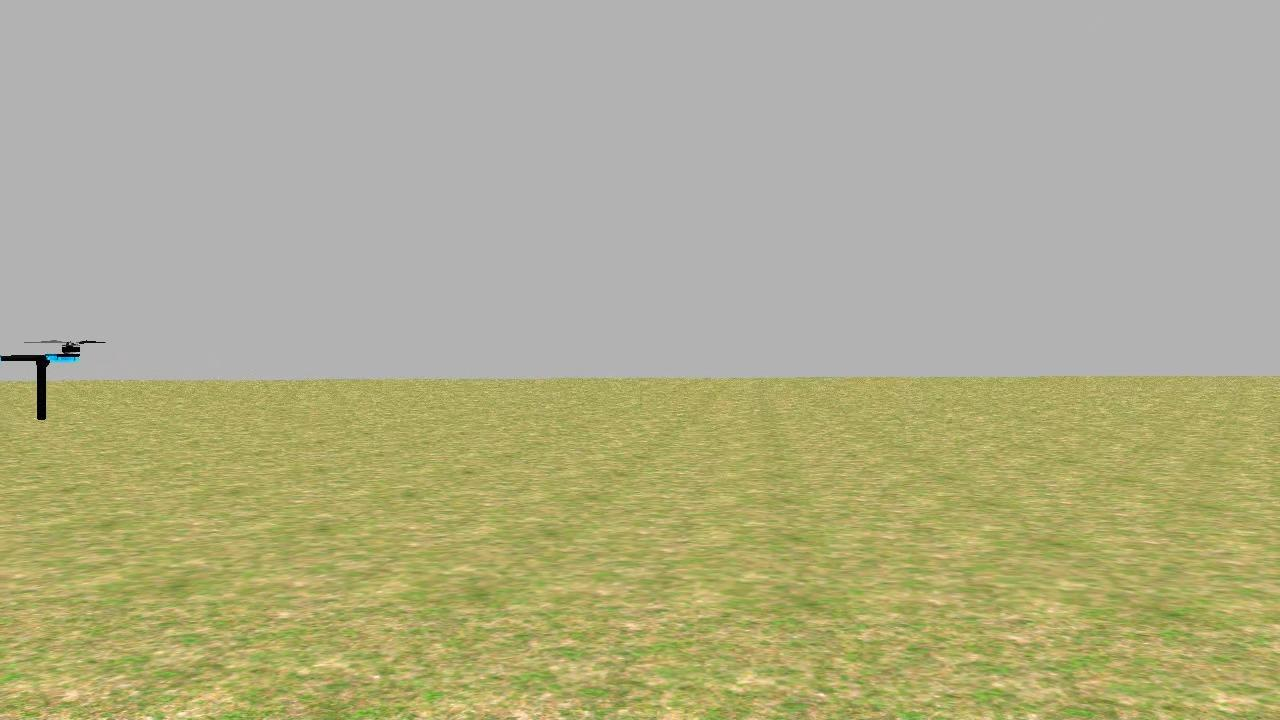UAV: (0, 311, 100, 430)
